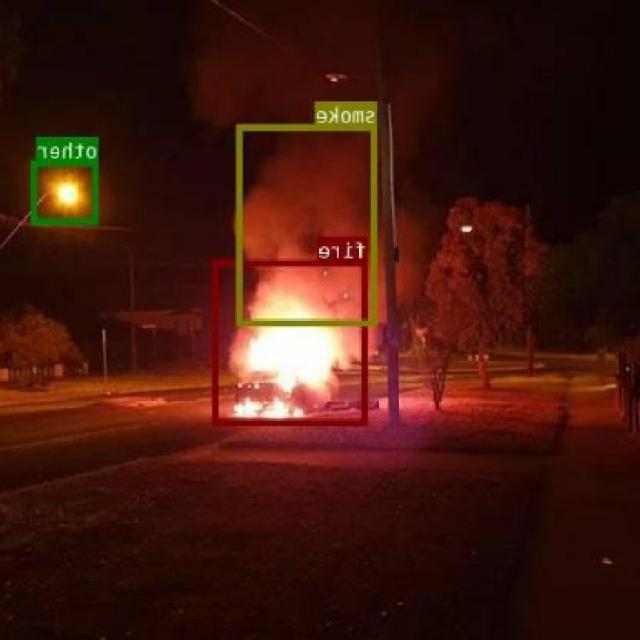Fire: (214, 258, 368, 424)
Smoke: (238, 124, 377, 324)
